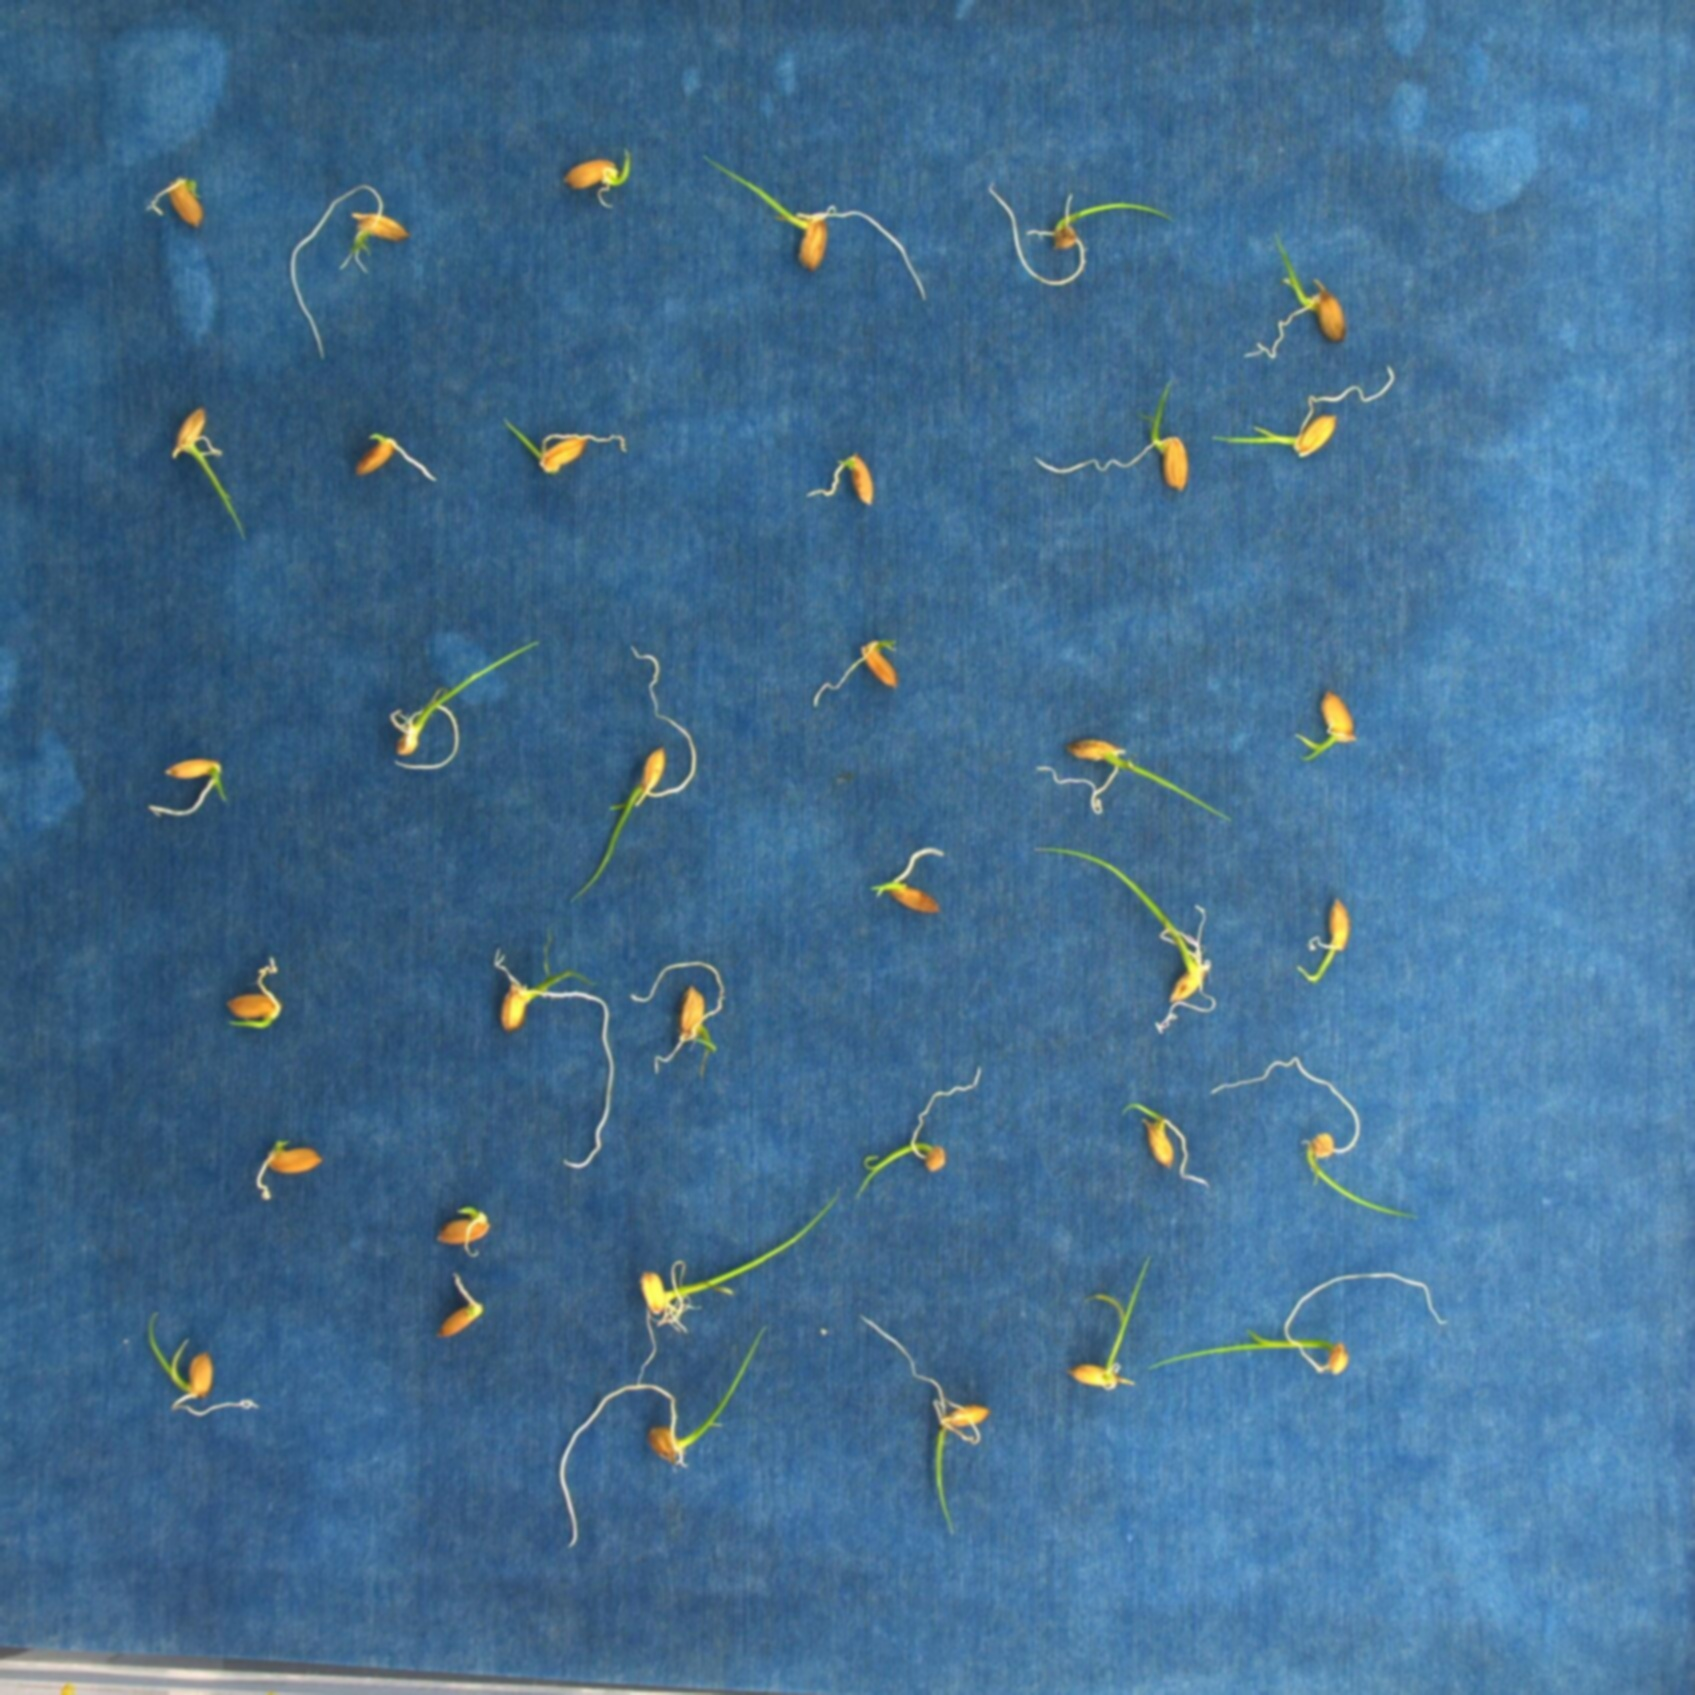not sprout: (255, 1138, 324, 1201), (352, 432, 438, 483), (806, 453, 875, 508), (438, 1271, 484, 1340), (147, 175, 203, 231)
sprout: (557, 1326, 765, 1551), (636, 1184, 843, 1380), (1211, 1055, 1423, 1222), (567, 643, 697, 905), (1034, 844, 1217, 1031), (703, 154, 927, 300), (490, 924, 615, 1170), (1150, 1271, 1445, 1374), (860, 1315, 993, 1535), (987, 179, 1175, 290), (290, 183, 408, 359), (386, 638, 542, 770), (1034, 379, 1191, 490), (1212, 365, 1394, 458), (854, 1068, 981, 1200), (1034, 737, 1234, 821), (1242, 231, 1347, 360), (146, 1312, 258, 1417), (1066, 1257, 1152, 1392), (632, 959, 723, 1077), (171, 405, 247, 540), (504, 413, 626, 473), (1121, 1101, 1208, 1184), (813, 636, 899, 706), (868, 847, 944, 917), (147, 757, 228, 818), (1293, 688, 1360, 761), (1295, 899, 1350, 986), (563, 147, 632, 211), (225, 955, 278, 1031), (438, 1205, 490, 1257)
